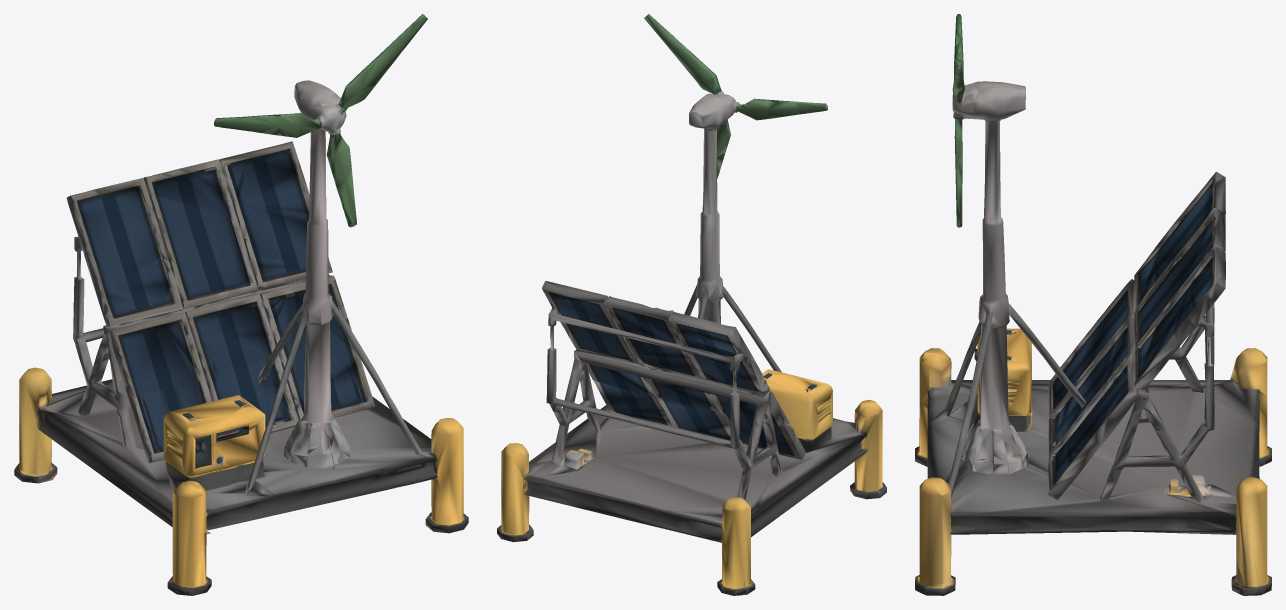
3 renders of one model, left to right at view 1: azimuth 30°, elevation 25°; view 2: azimuth 150°, elevation 25°; view 3: azimuth 270°, elevation 25°, orthographic. The views are drawn at different scales.
Visible parts, largest first — view 1: Mesh_0.001; view 2: Mesh_0.001; view 3: Mesh_0.001.
Part boxes in pixels (box(x1,y1,x2,y2)): Mesh_0.001: box(14, 14, 468, 595); Mesh_0.001: box(497, 14, 886, 595); Mesh_0.001: box(915, 14, 1271, 595).
Size of the model in its own units: 6.08 by 10 by 6.24.
Materials: 1 (1 with a texture image).
